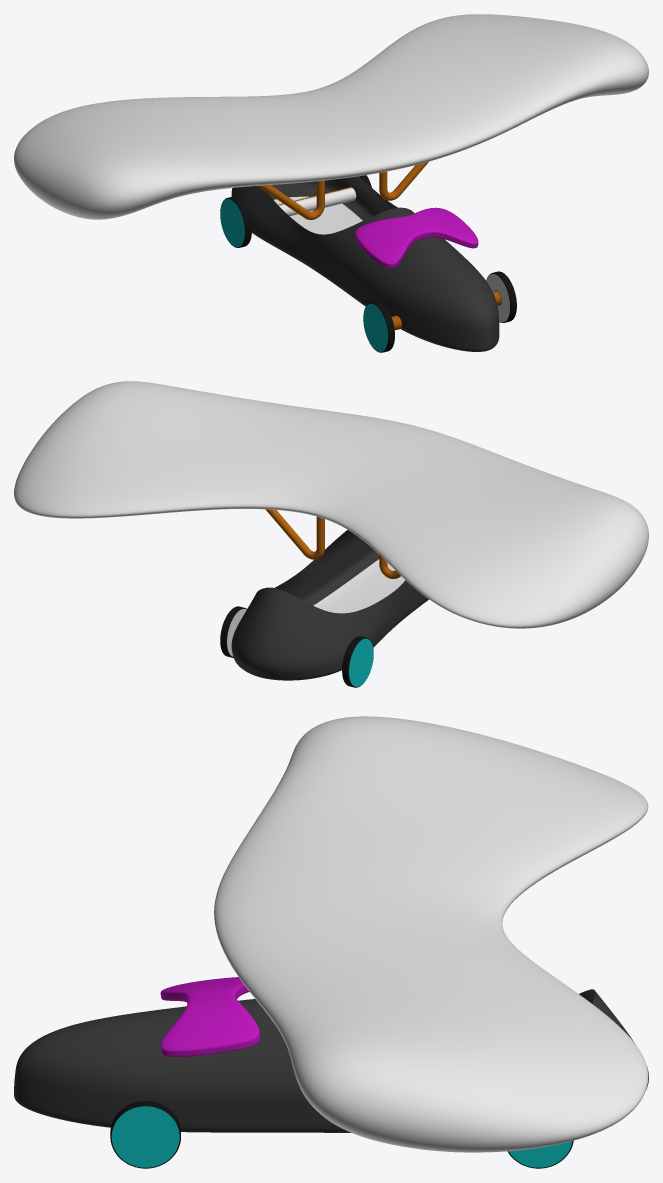
The picture shows the model from 3 angles, top to bottom: view 1: azimuth 30°, elevation 25°; view 2: azimuth 150°, elevation 25°; view 3: azimuth 270°, elevation 25°; orthographic projection. The views are drawn at different scales.
Visible parts, largest first — view 1: 225,225,225, 55,55,55, 185,23,185, 167,91,14, 225,225,22511, 17,186,1861, 17,186,186, 21,21,21, 225,225,2253, 225,225,2251, 21,21,211; view 2: 225,225,225, 55,55,55, 225,225,22511, 167,91,14, 17,186,1861, 21,21,211; view 3: 225,225,225, 55,55,55, 185,23,185, 17,186,186, 17,186,1861, 21,21,21.
Part boxes in pixels (bbox=[...]): 225,225,225: bbox=[14, 14, 648, 219]; 55,55,55: bbox=[231, 176, 499, 351]; 185,23,185: bbox=[355, 207, 478, 268]; 167,91,14: bbox=[258, 162, 428, 219]; 225,225,22511: bbox=[274, 196, 362, 234]; 17,186,1861: bbox=[220, 199, 244, 247]; 17,186,186: bbox=[363, 303, 388, 351]; 21,21,21: bbox=[363, 271, 516, 352]; 225,225,2253: bbox=[278, 176, 359, 216]; 225,225,2251: bbox=[486, 274, 509, 322]; 21,21,211: bbox=[220, 175, 371, 247]; 225,225,225: bbox=[14, 381, 648, 628]; 55,55,55: bbox=[231, 530, 428, 680]; 225,225,22511: bbox=[313, 559, 404, 613]; 167,91,14: bbox=[265, 509, 400, 578]; 17,186,1861: bbox=[349, 638, 373, 686]; 21,21,211: bbox=[220, 606, 373, 687]; 225,225,225: bbox=[214, 716, 648, 1152]; 55,55,55: bbox=[14, 989, 648, 1132]; 185,23,185: bbox=[160, 977, 260, 1056]; 17,186,186: bbox=[111, 1106, 179, 1167]; 17,186,1861: bbox=[509, 1141, 572, 1167]; 21,21,21: bbox=[110, 1101, 180, 1168].
Bounding box in the file's own units: 5.15 × 1.5 × 3.58.
